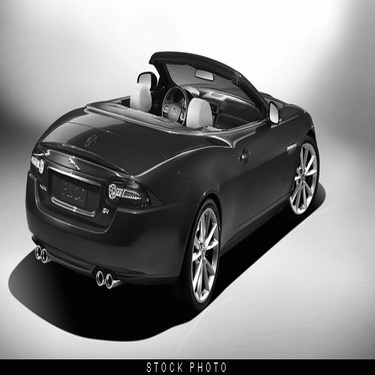car: (23, 39, 325, 314)
